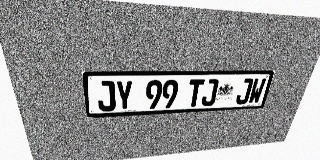9: (145, 80, 163, 109), (161, 80, 179, 108)
J: (96, 81, 116, 112), (235, 78, 254, 104), (201, 79, 219, 106)
T: (186, 79, 205, 107)
W: (247, 78, 267, 104)
Y: (115, 80, 133, 111)
